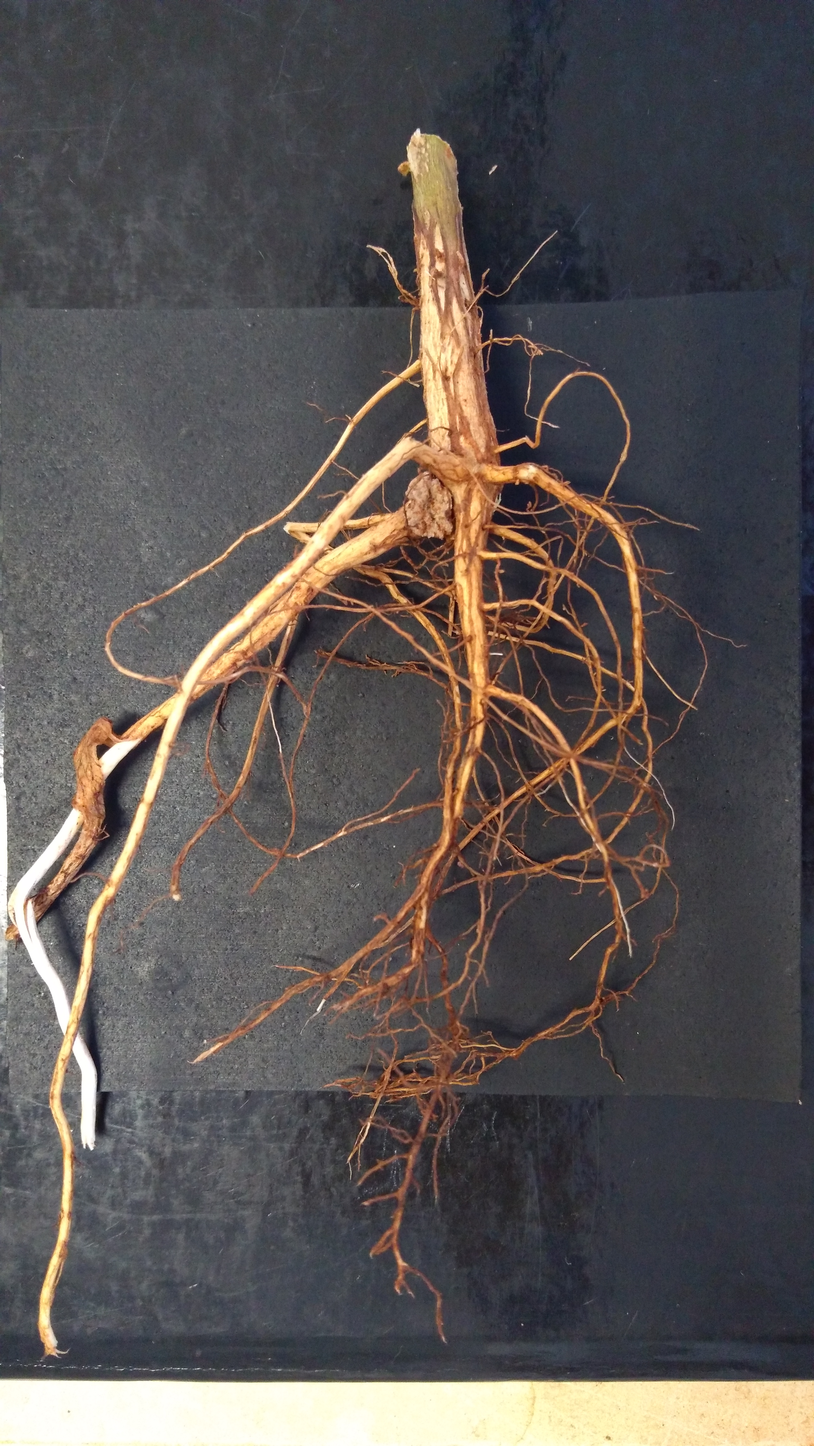nodule: (405, 470, 454, 540), (87, 715, 113, 747), (397, 160, 410, 176), (514, 479, 519, 485)
